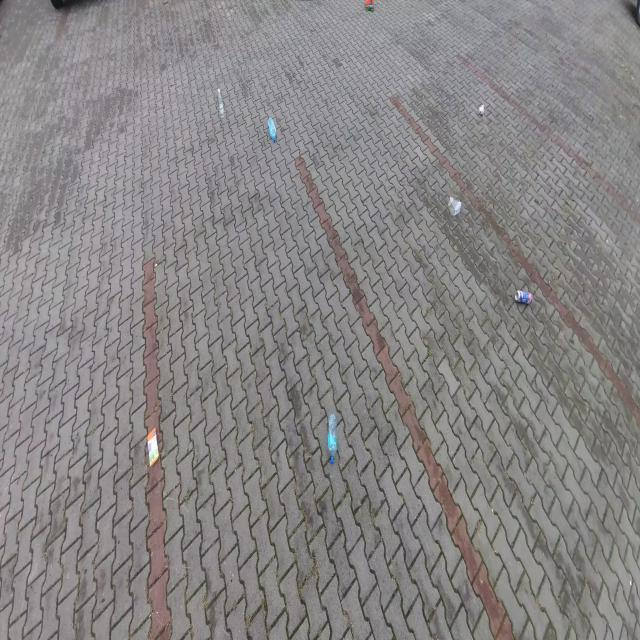rubbish: (146, 427, 159, 467), (327, 414, 337, 461), (447, 195, 462, 217), (515, 291, 533, 305), (267, 116, 276, 141), (218, 90, 225, 117), (478, 103, 483, 115), (364, 5, 373, 11), (365, 0, 374, 5)
